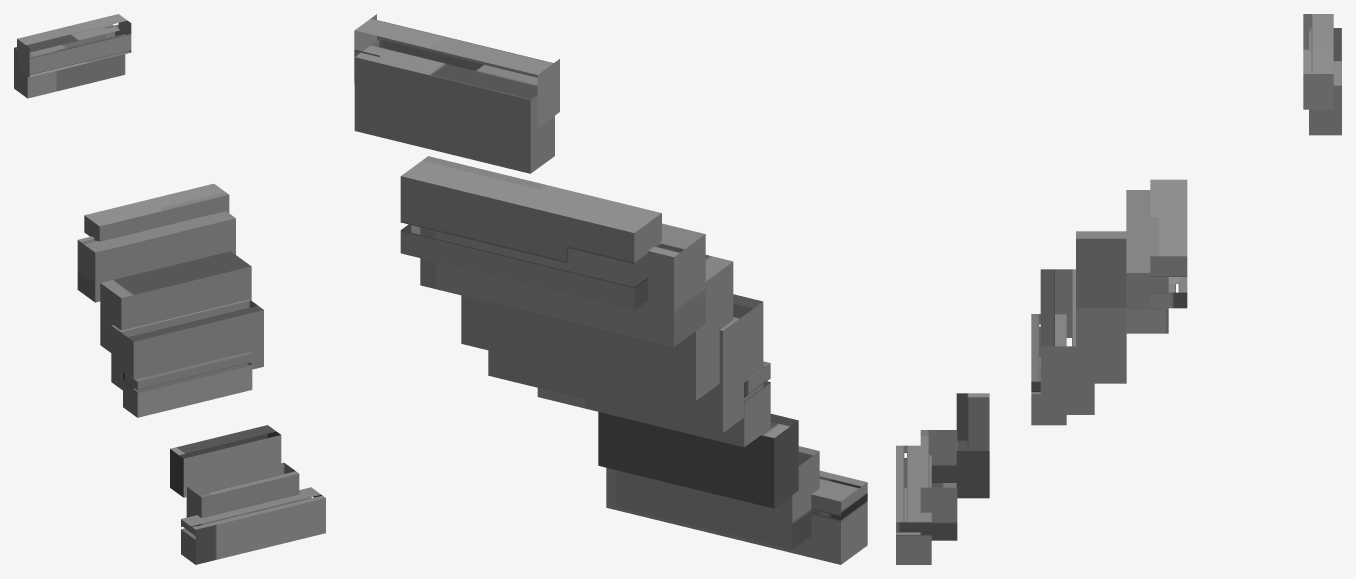
3 views of the same model, side by side, from view 1: azimuth 30°, elevation 25°; view 2: azimuth 150°, elevation 25°; view 3: azimuth 270°, elevation 25° (orthographic). The views are drawn at different scales.
Size of the model in its own units: 1.08 by 2.82 by 2.4.
